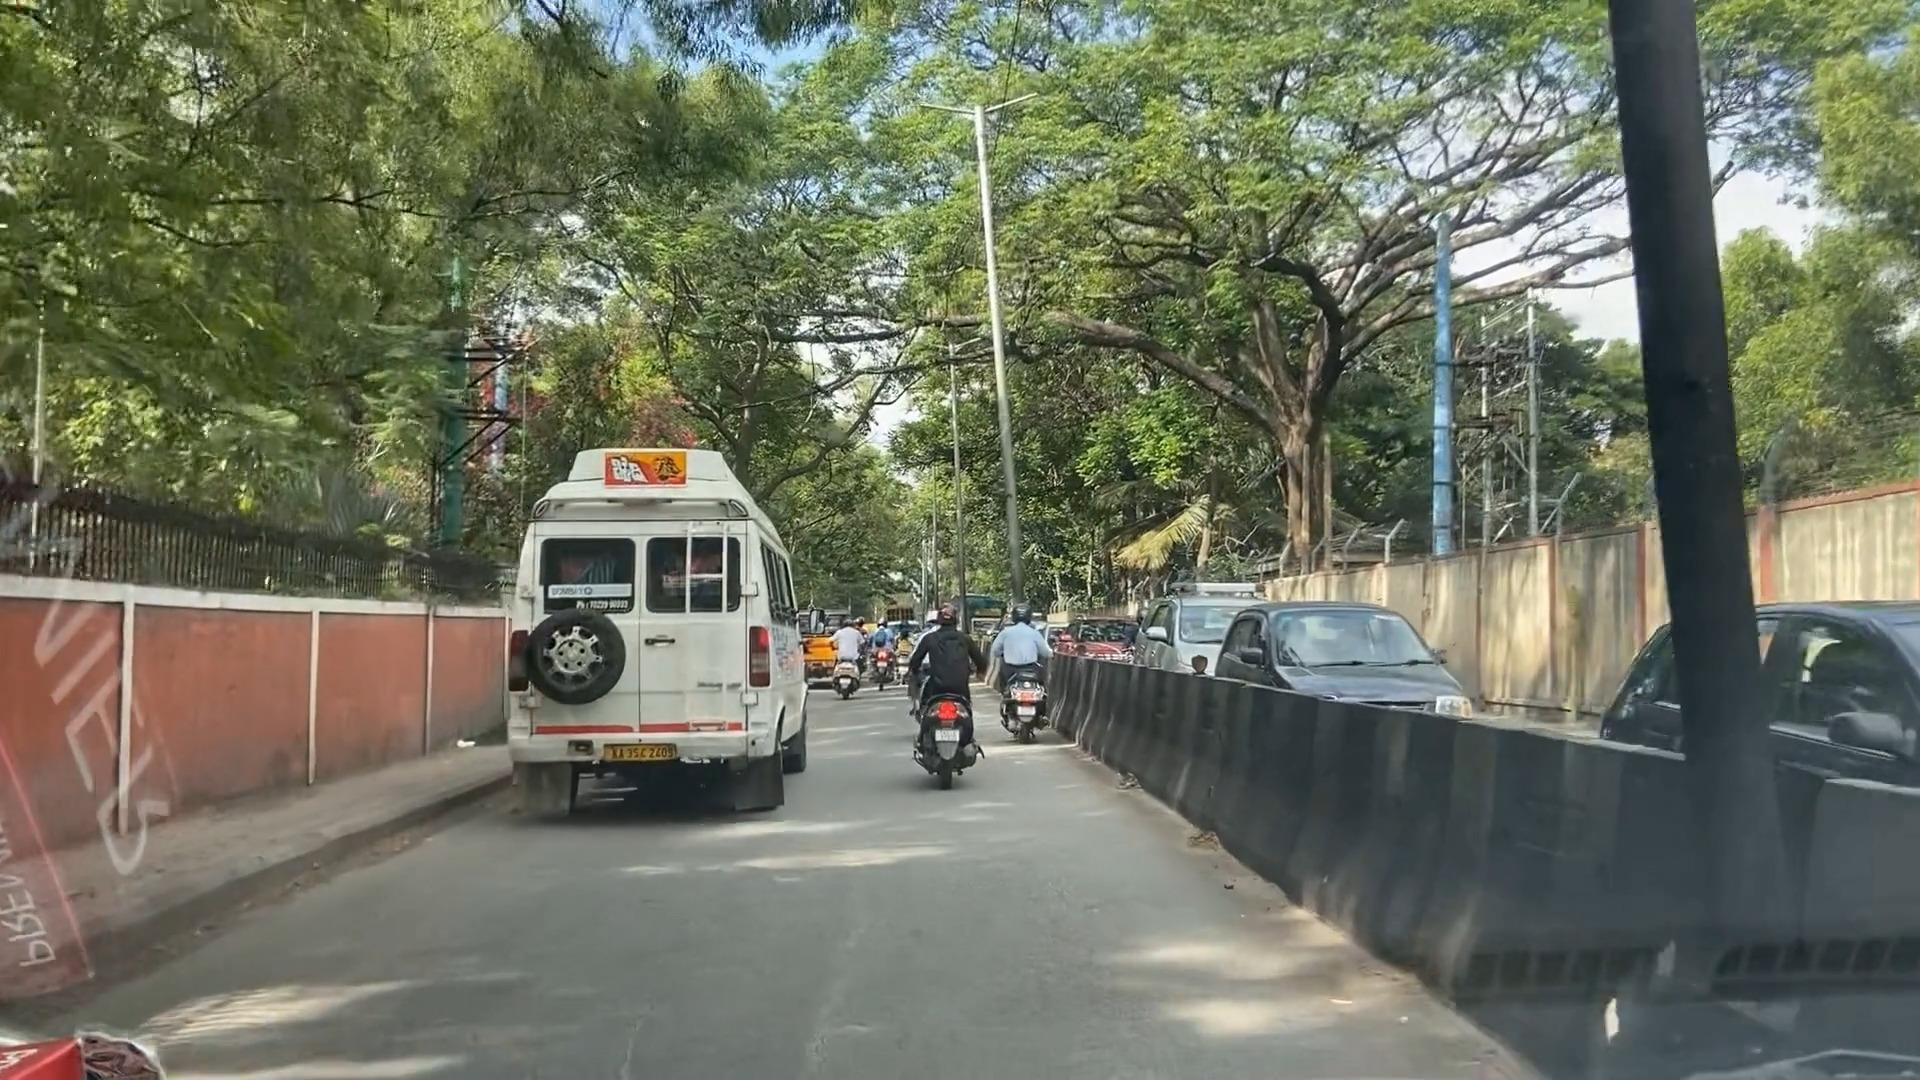HMV: (500, 454, 779, 800), (899, 596, 984, 790)
LMV: (997, 589, 1056, 738)
